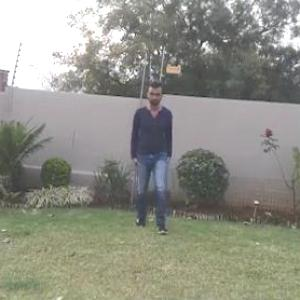follow: (134, 73, 188, 244)
